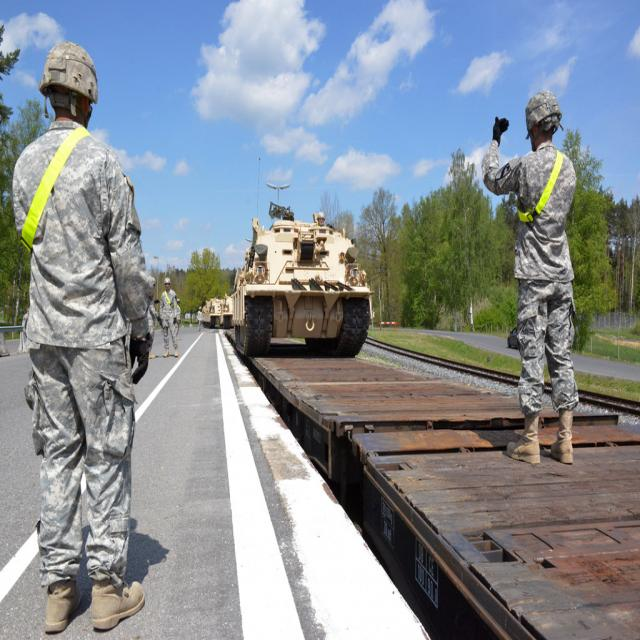tank: (232, 158, 376, 358), (200, 296, 232, 329)
